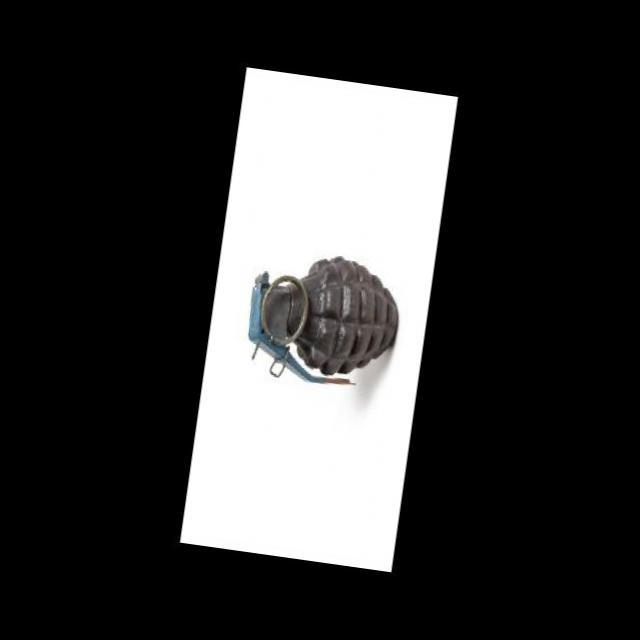grenade: (240, 238, 414, 406)
